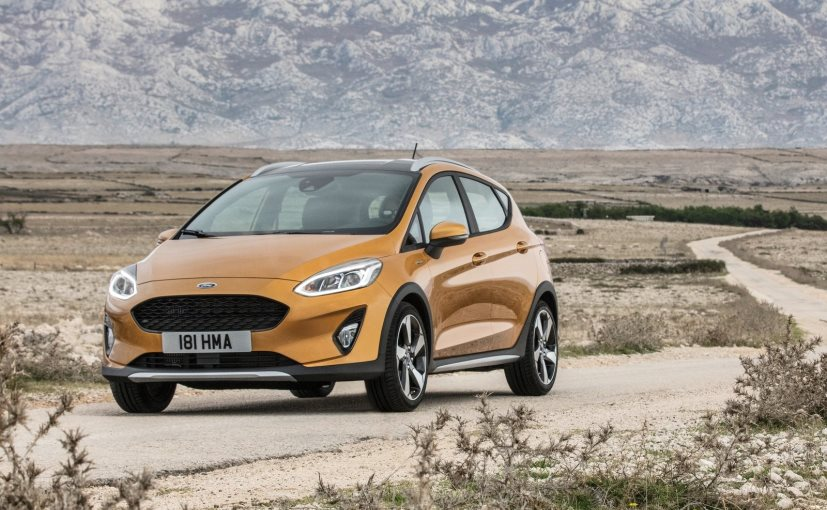car: (107, 156, 563, 412)
